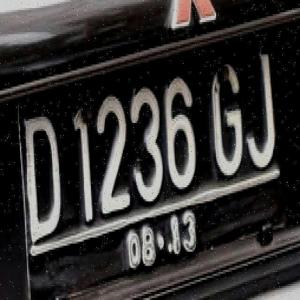Plate: (16, 27, 290, 300)
